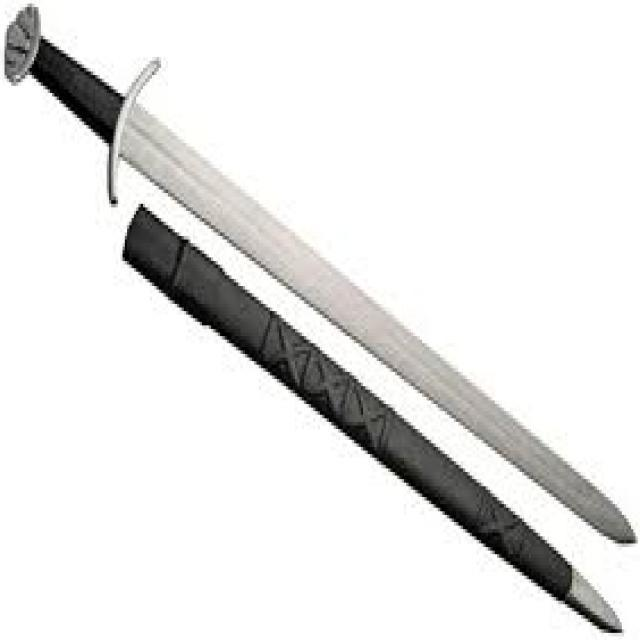sword: (3, 3, 640, 640)
